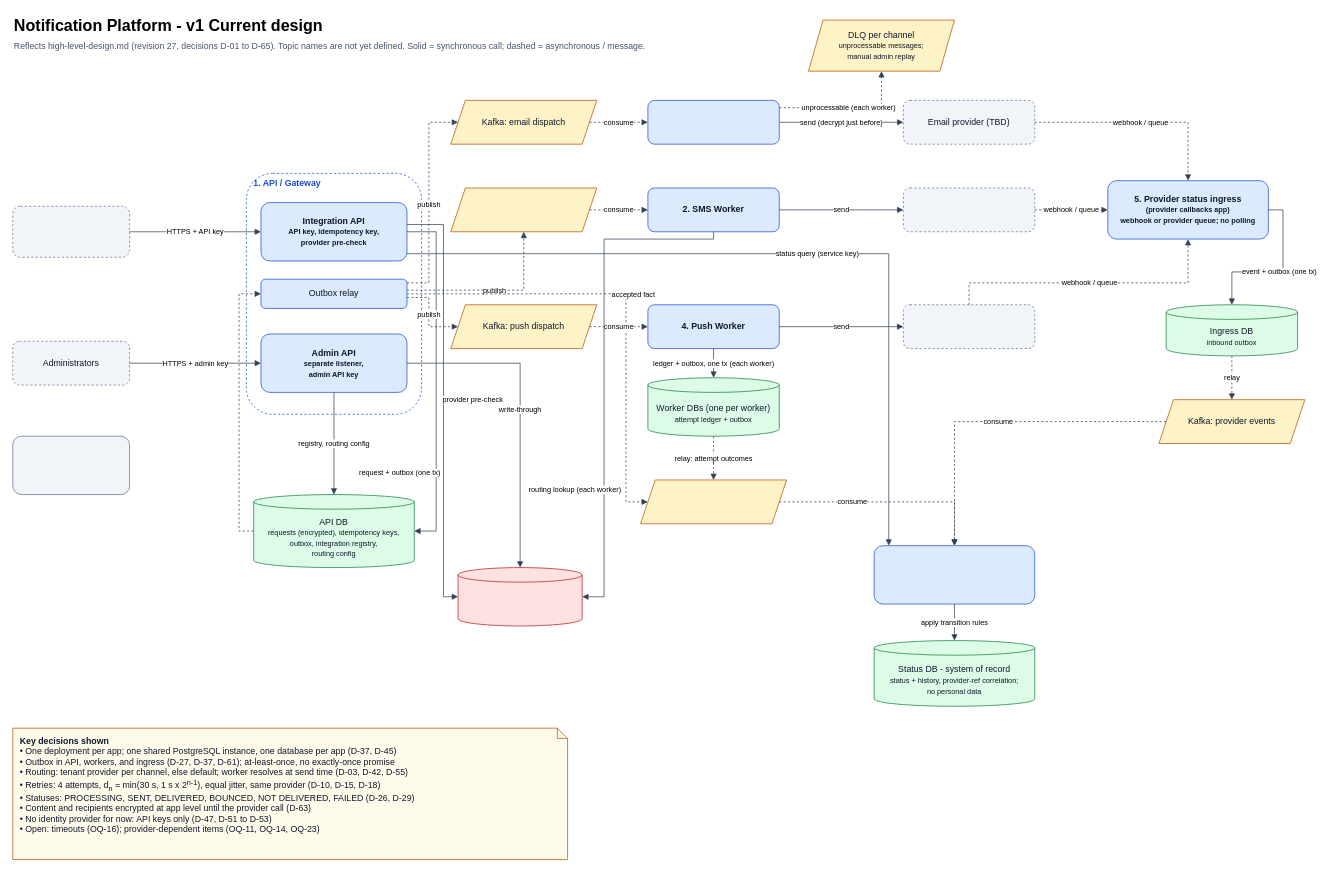
Image size: 1329x872. Some labels were removed from this diagram. The shapes that lost their labels are listed below. From the top down, each one's box as (x1, y1, x2, y2) in pixels, then its label:
(647, 100, 779, 144): 3. Email Worker
(450, 187, 597, 232): Kafka: SMS dispatch
(903, 187, 1035, 232): SMS provider (TBD)
(12, 205, 130, 257): Integrations (tenant backend services)
(903, 304, 1035, 349): Push provider (TBD)
(12, 435, 130, 495): Secrets store all sensitive values (D-59); delivered as env vars (D-46)
(640, 479, 787, 524): Kafka: status facts accepted + attempt outcomes
(873, 545, 1035, 604): 6. Delivery-status app (status projector) single writer; status query interface
(457, 567, 582, 626): Redis routing config cache (DB is source of truth)
